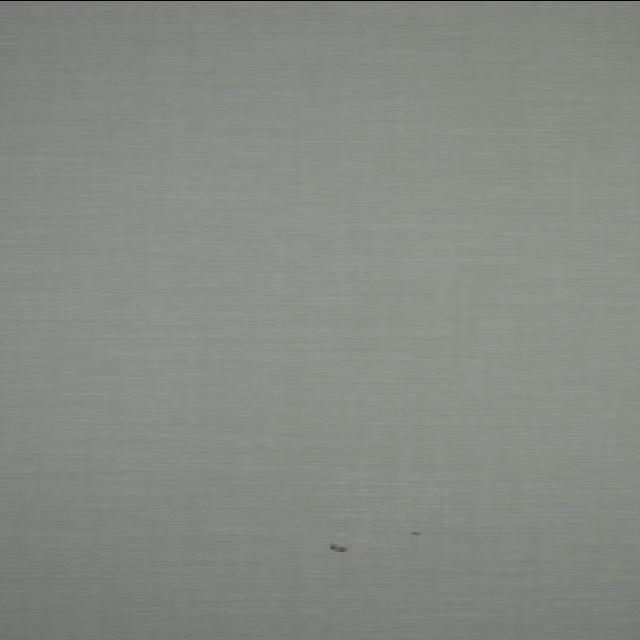dirty: (329, 544, 346, 550), (408, 530, 420, 535)
